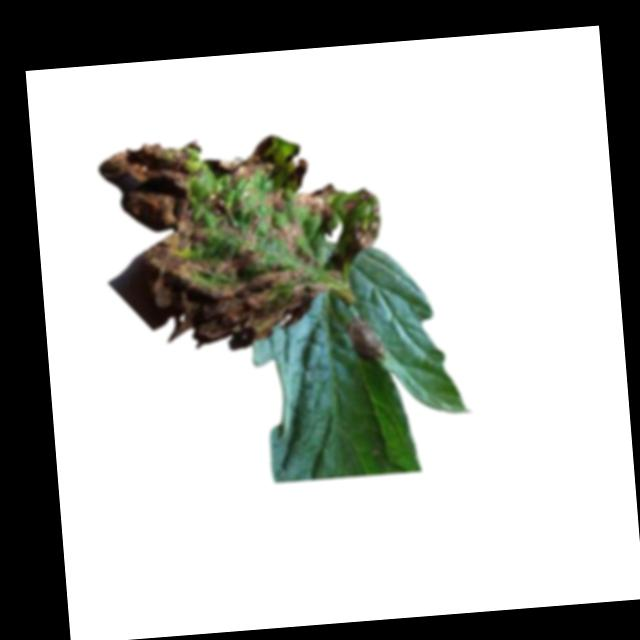Early_blight: (97, 124, 390, 348), (345, 316, 387, 366)
